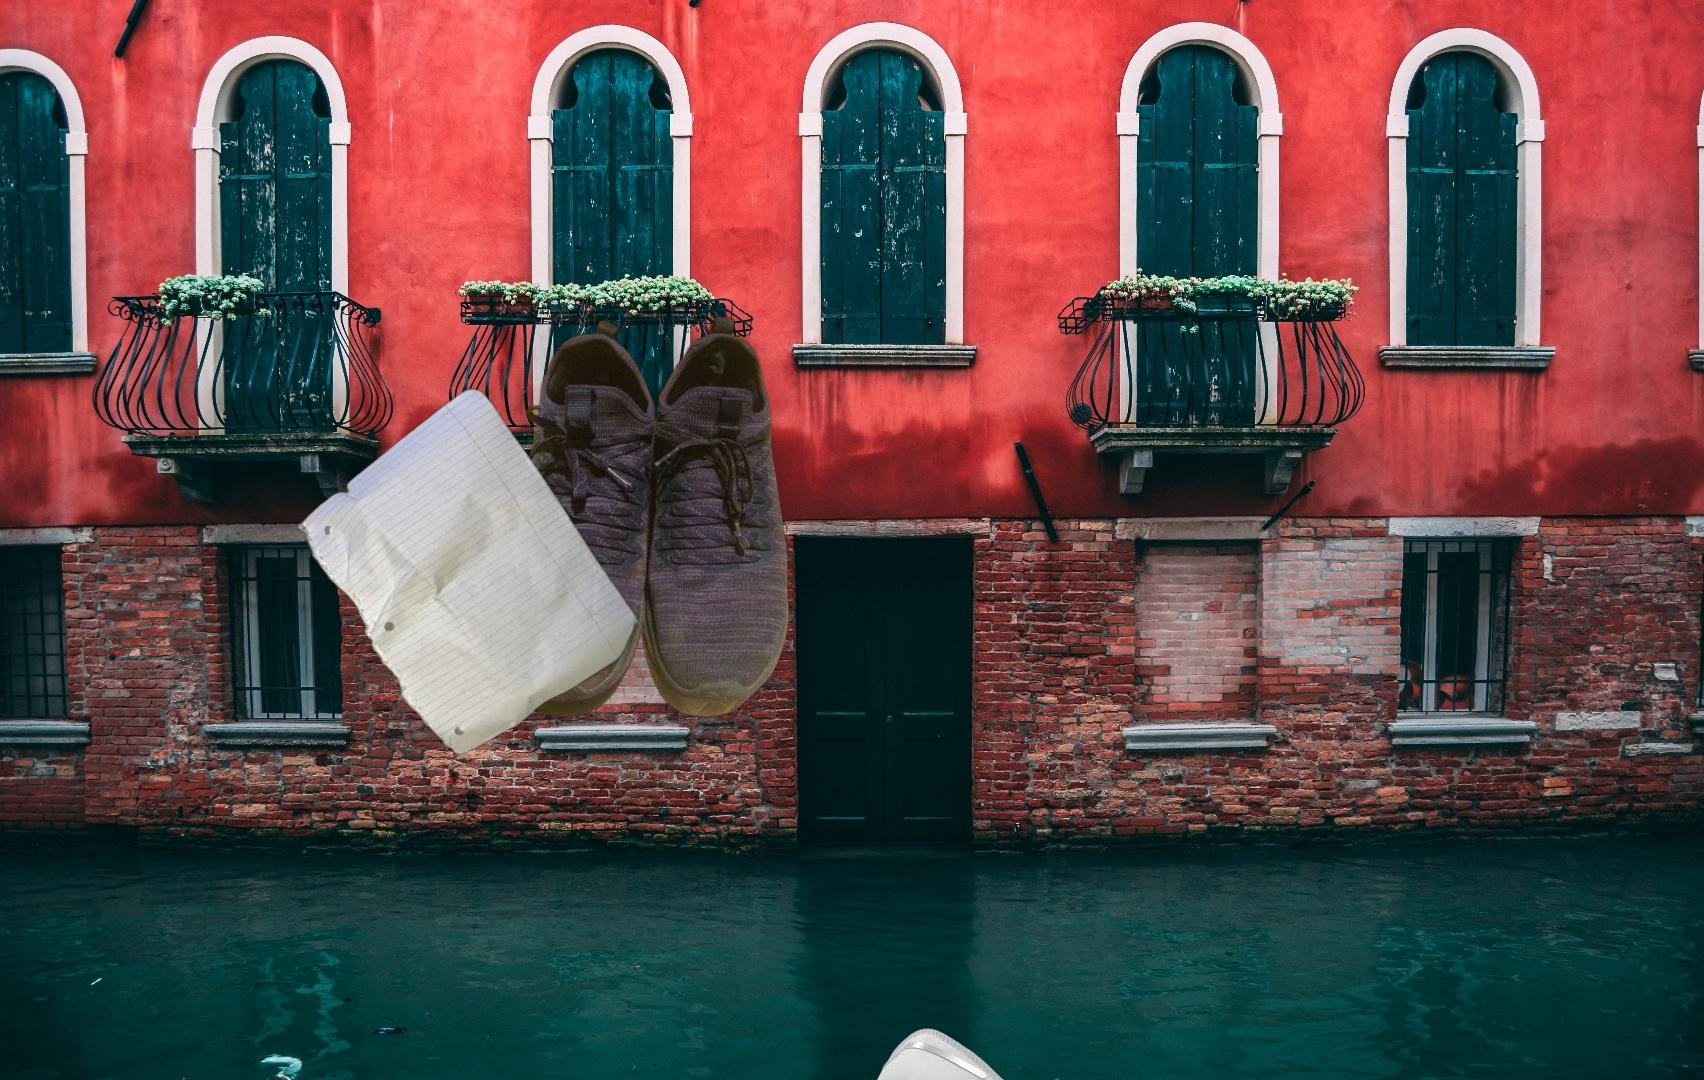paper: (294, 385, 653, 758)
shoes: (489, 312, 792, 722)
trash: (858, 1025, 1059, 1080)
